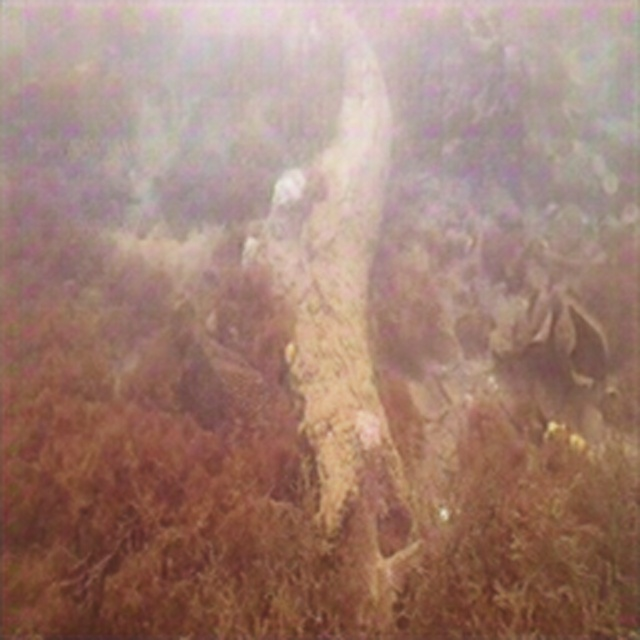mine: (193, 263, 267, 413)
